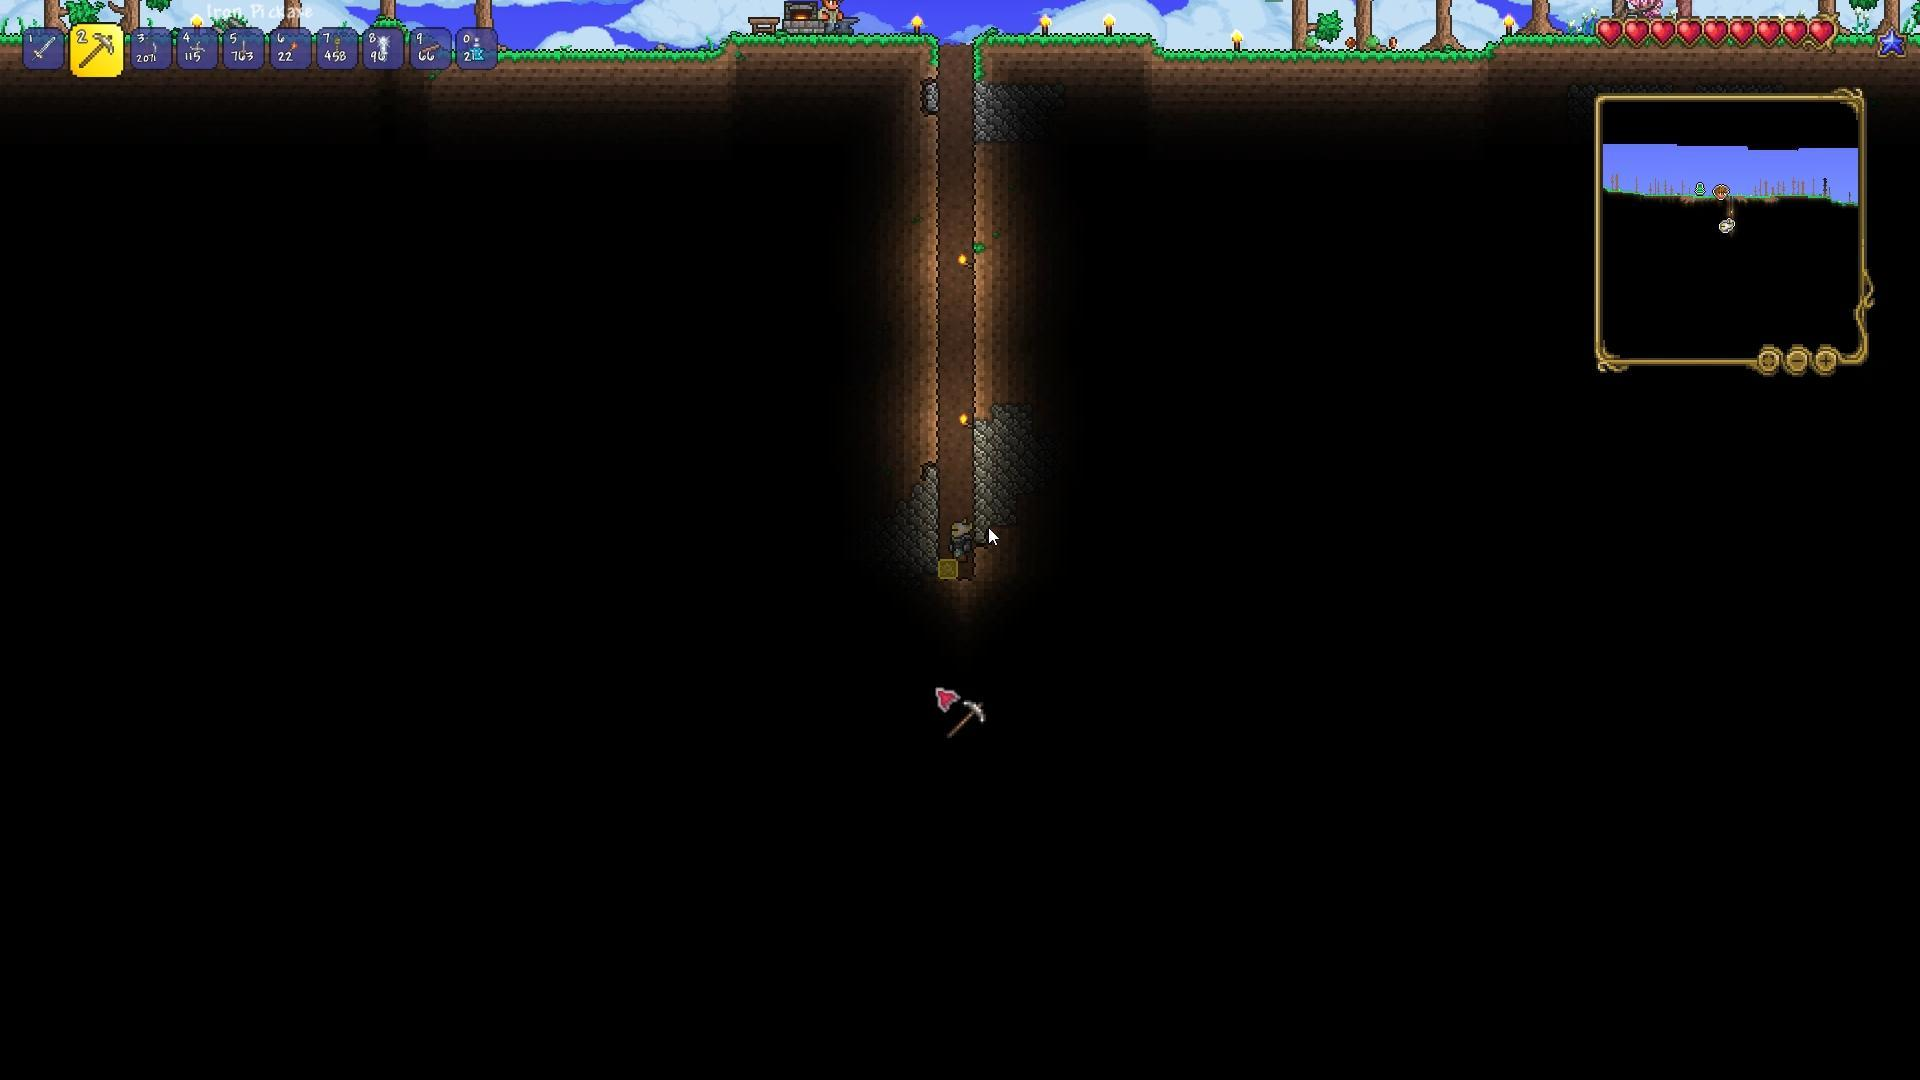dirt: (971, 32, 1593, 70), (512, 30, 942, 80)
stone: (968, 426, 1007, 525), (927, 465, 945, 555), (971, 79, 992, 144), (923, 74, 943, 115)
